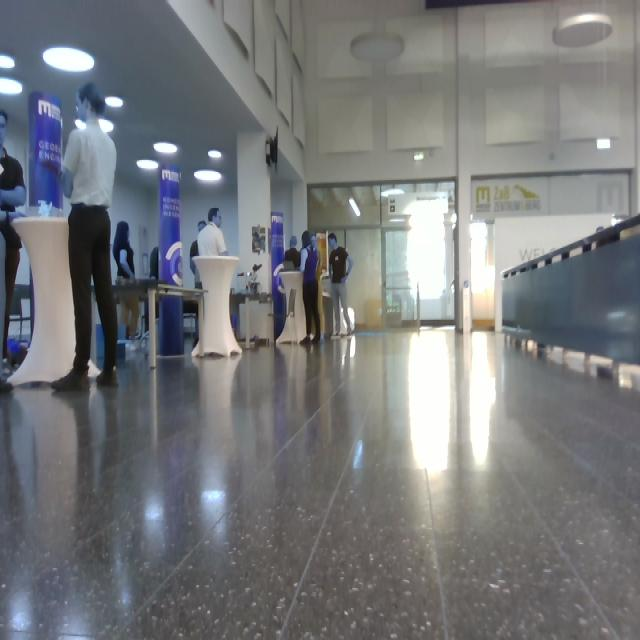door: (345, 228, 383, 330)
light bulb: (553, 12, 613, 48), (350, 32, 405, 64), (43, 46, 95, 73), (75, 117, 114, 133), (1, 77, 23, 96), (194, 169, 222, 182), (153, 143, 178, 155), (137, 159, 159, 171), (349, 197, 361, 217), (105, 96, 124, 108), (99, 118, 114, 133), (381, 188, 405, 197), (1, 54, 15, 69), (597, 139, 611, 151), (75, 119, 87, 131), (208, 149, 222, 158), (414, 152, 424, 161)
person: (50, 82, 120, 392), (1, 109, 28, 392), (113, 221, 141, 341), (328, 233, 354, 338), (300, 230, 322, 345)
pillar: (158, 164, 185, 357)
staircase: (500, 212, 640, 382)
tiled floor: (1, 324, 639, 638)
